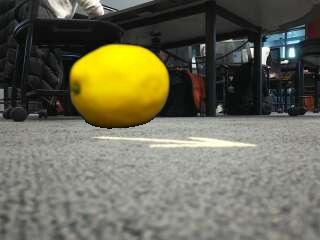lemon: (73, 46, 172, 129)
